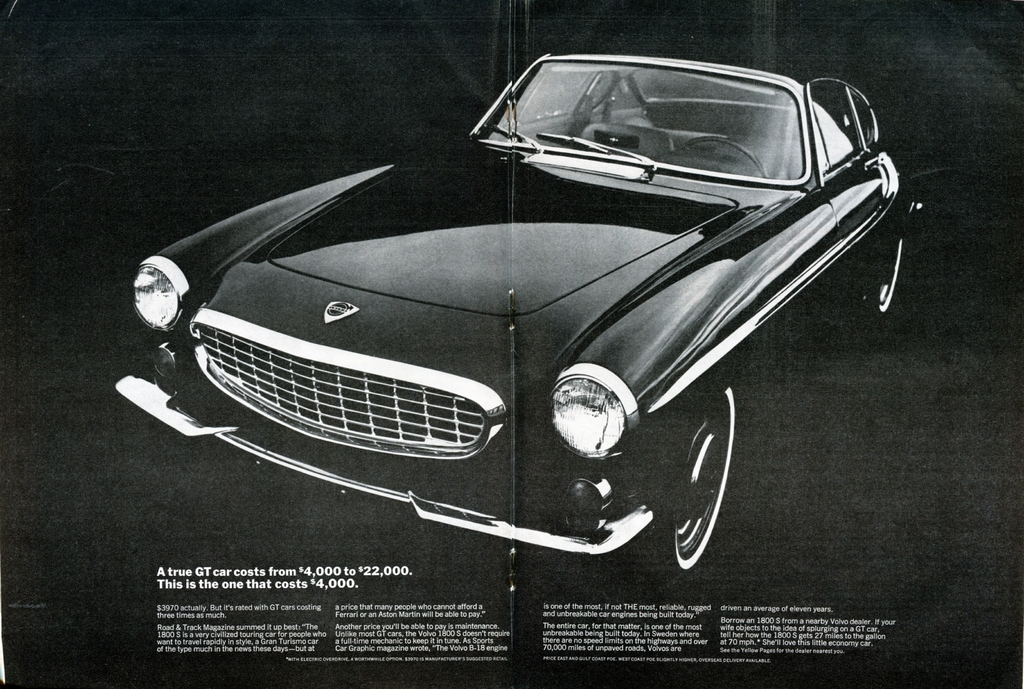cars: (110, 46, 929, 573)
